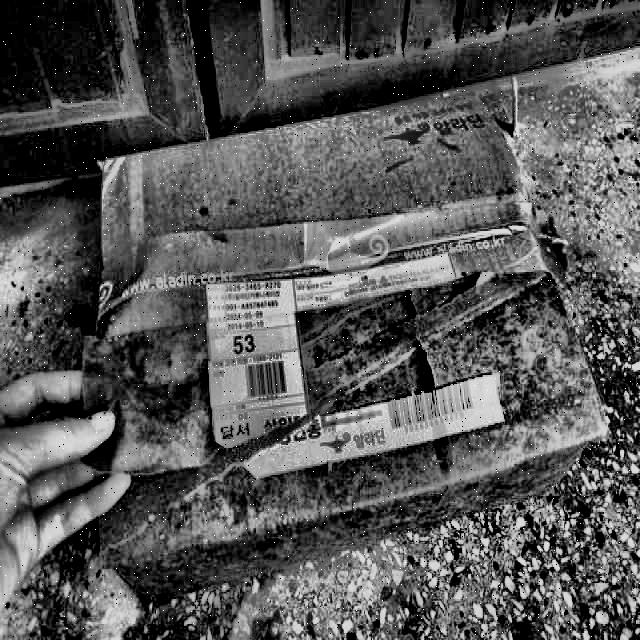box: (74, 81, 618, 612)
wet: (104, 259, 612, 548)
